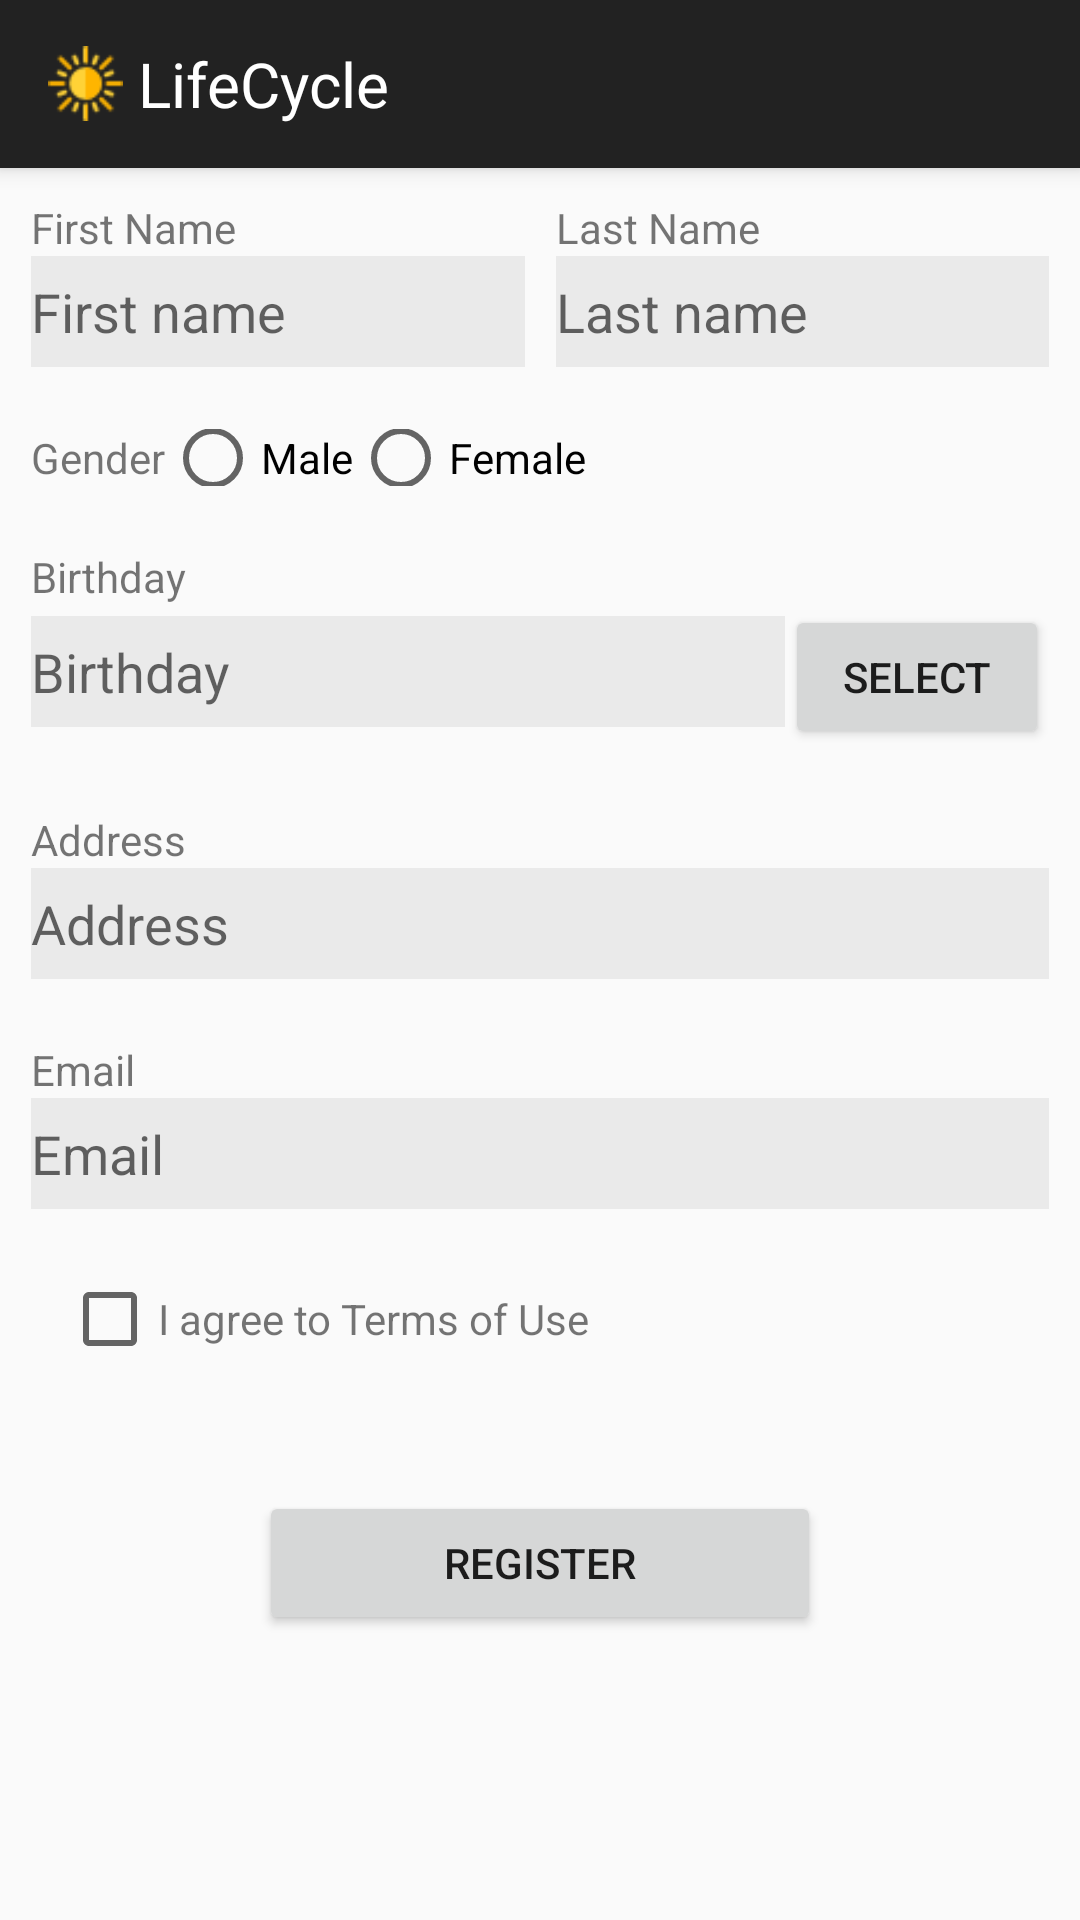

Where to tap for icons on this 1080px x 1920px app screen, as point (x, y):
sun: point (85, 83)
